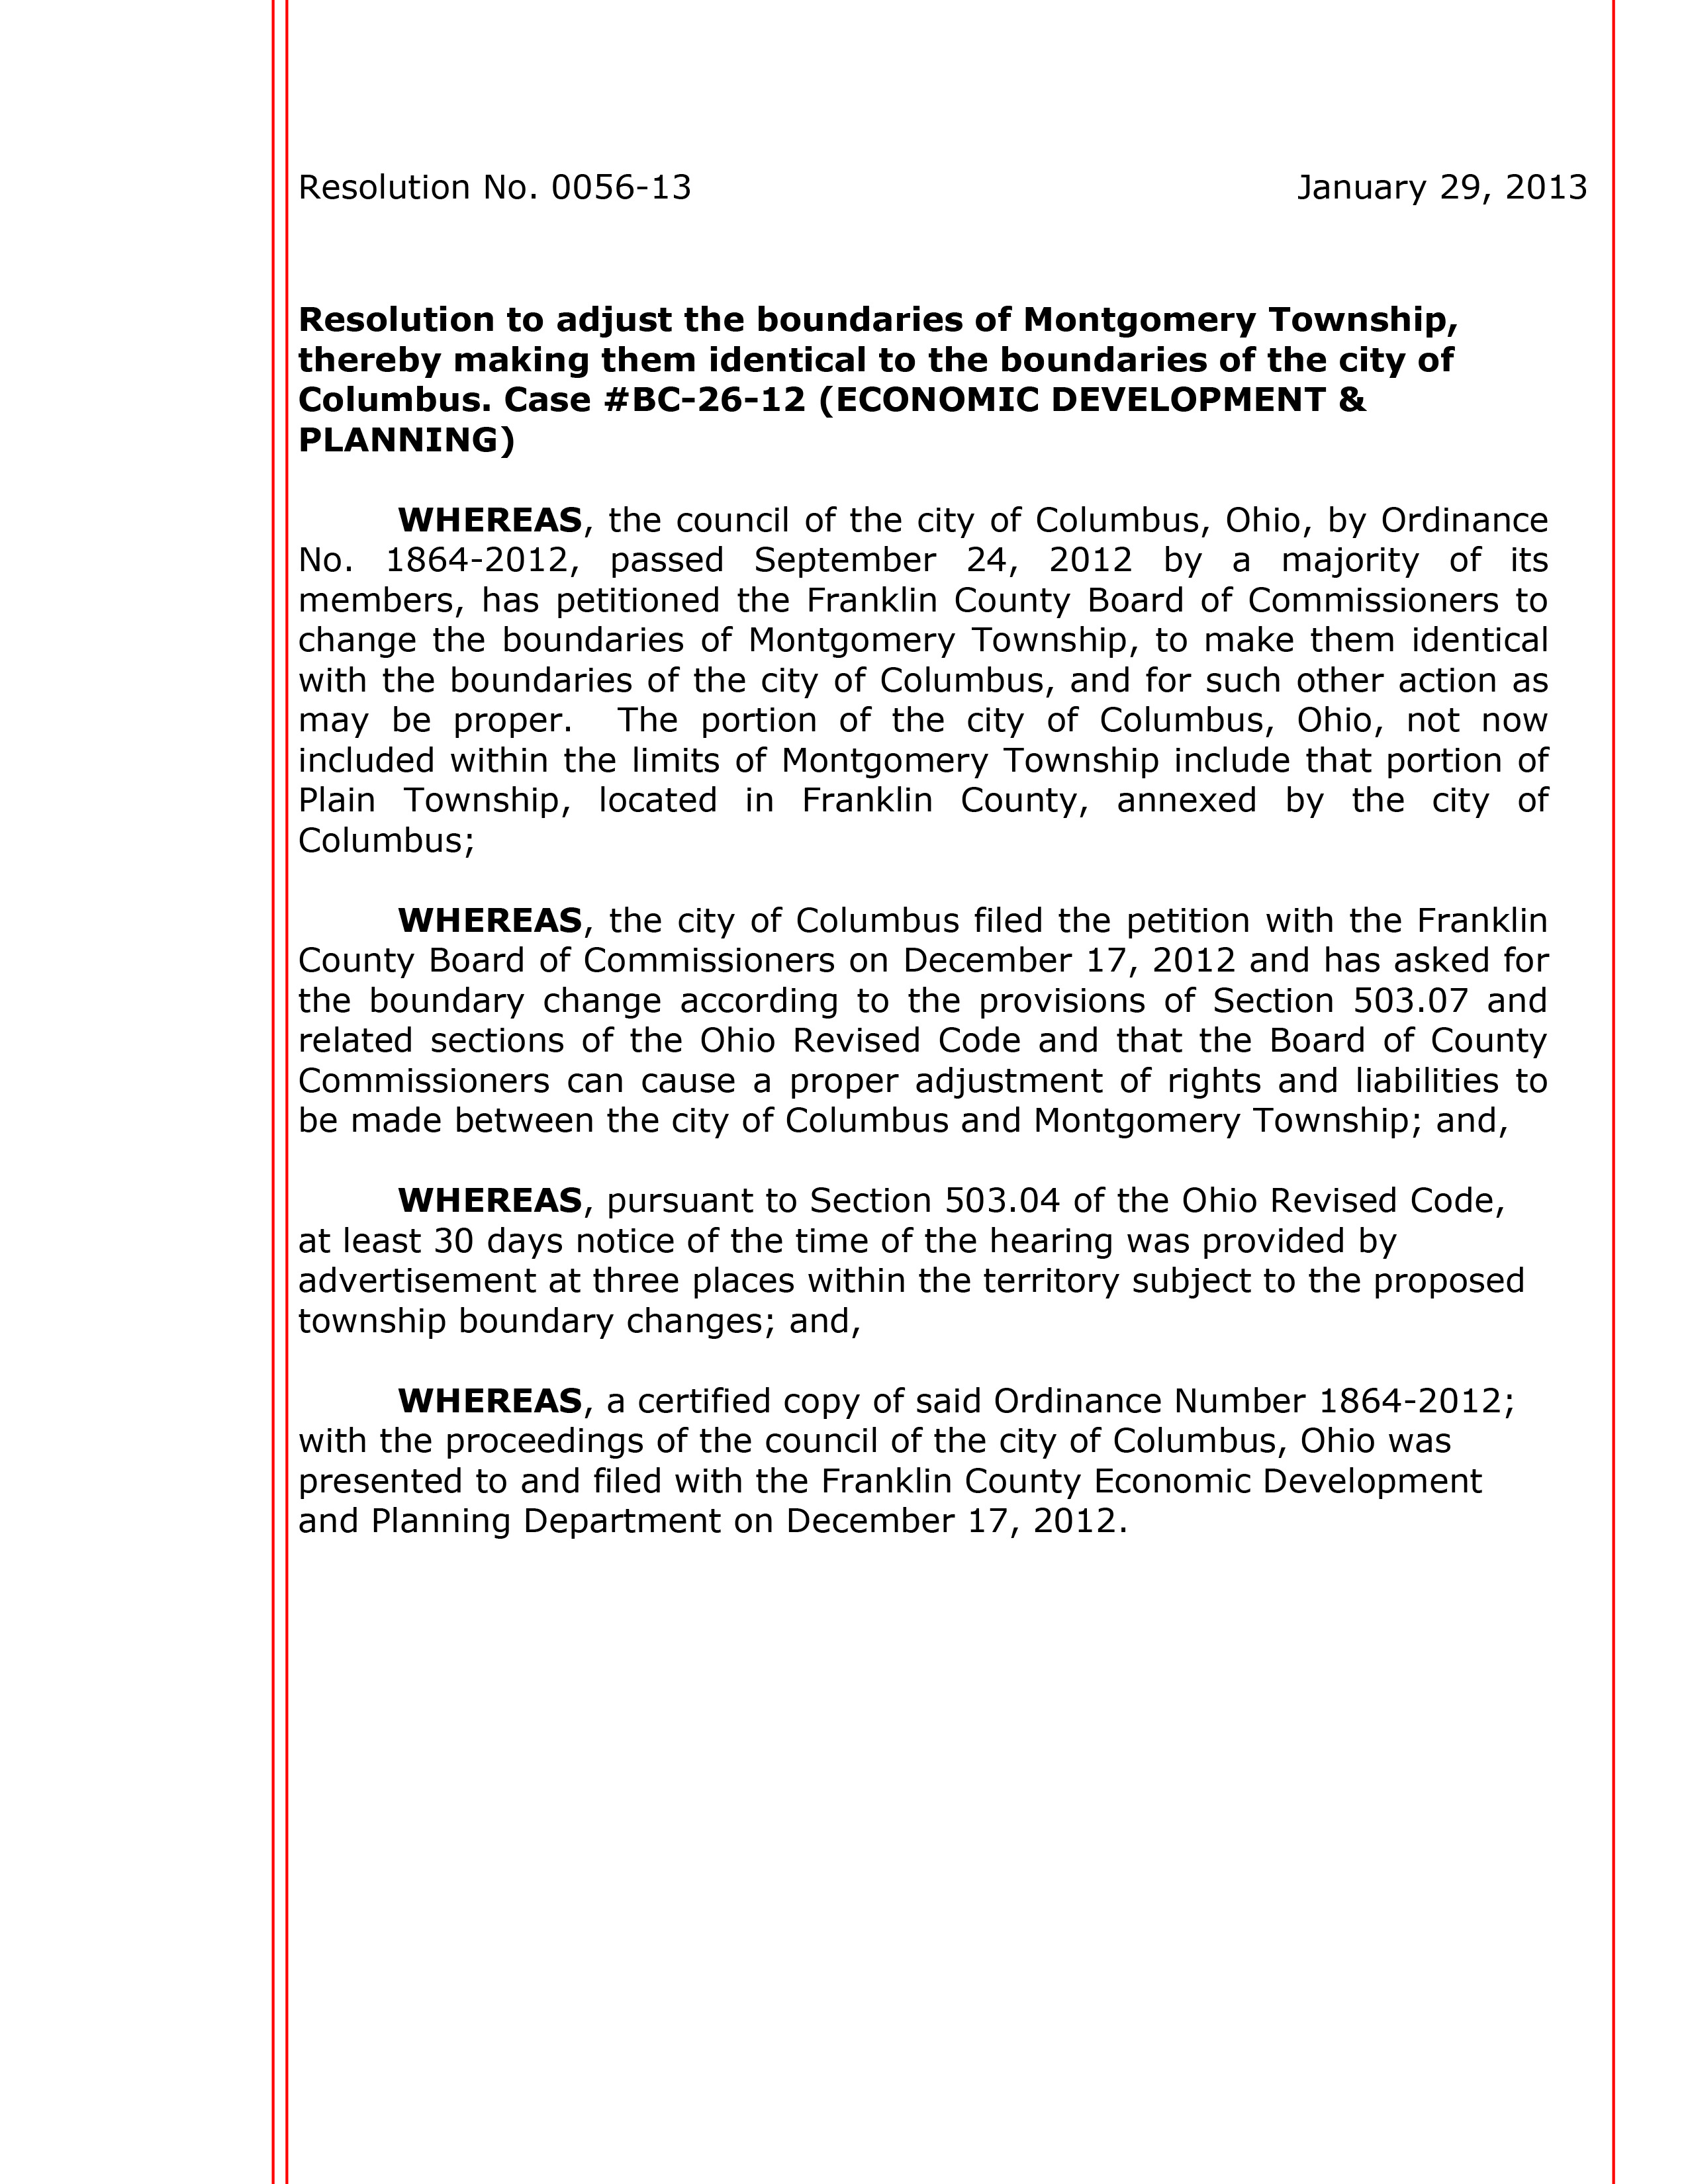section: (291, 292, 1495, 466)
text: (291, 493, 1562, 860), (300, 895, 1551, 1138), (291, 1179, 1536, 1345), (300, 1392, 1528, 1548), (296, 149, 702, 223), (1289, 152, 1601, 230)
